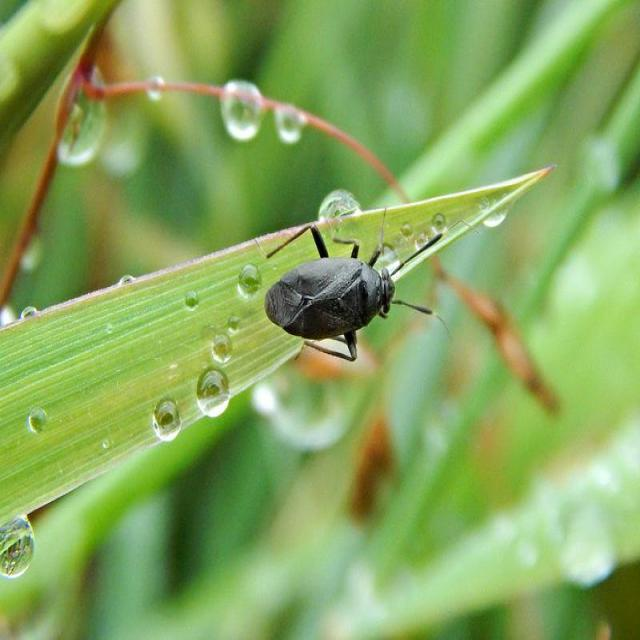Miridae-Adult-: (254, 201, 449, 366)
